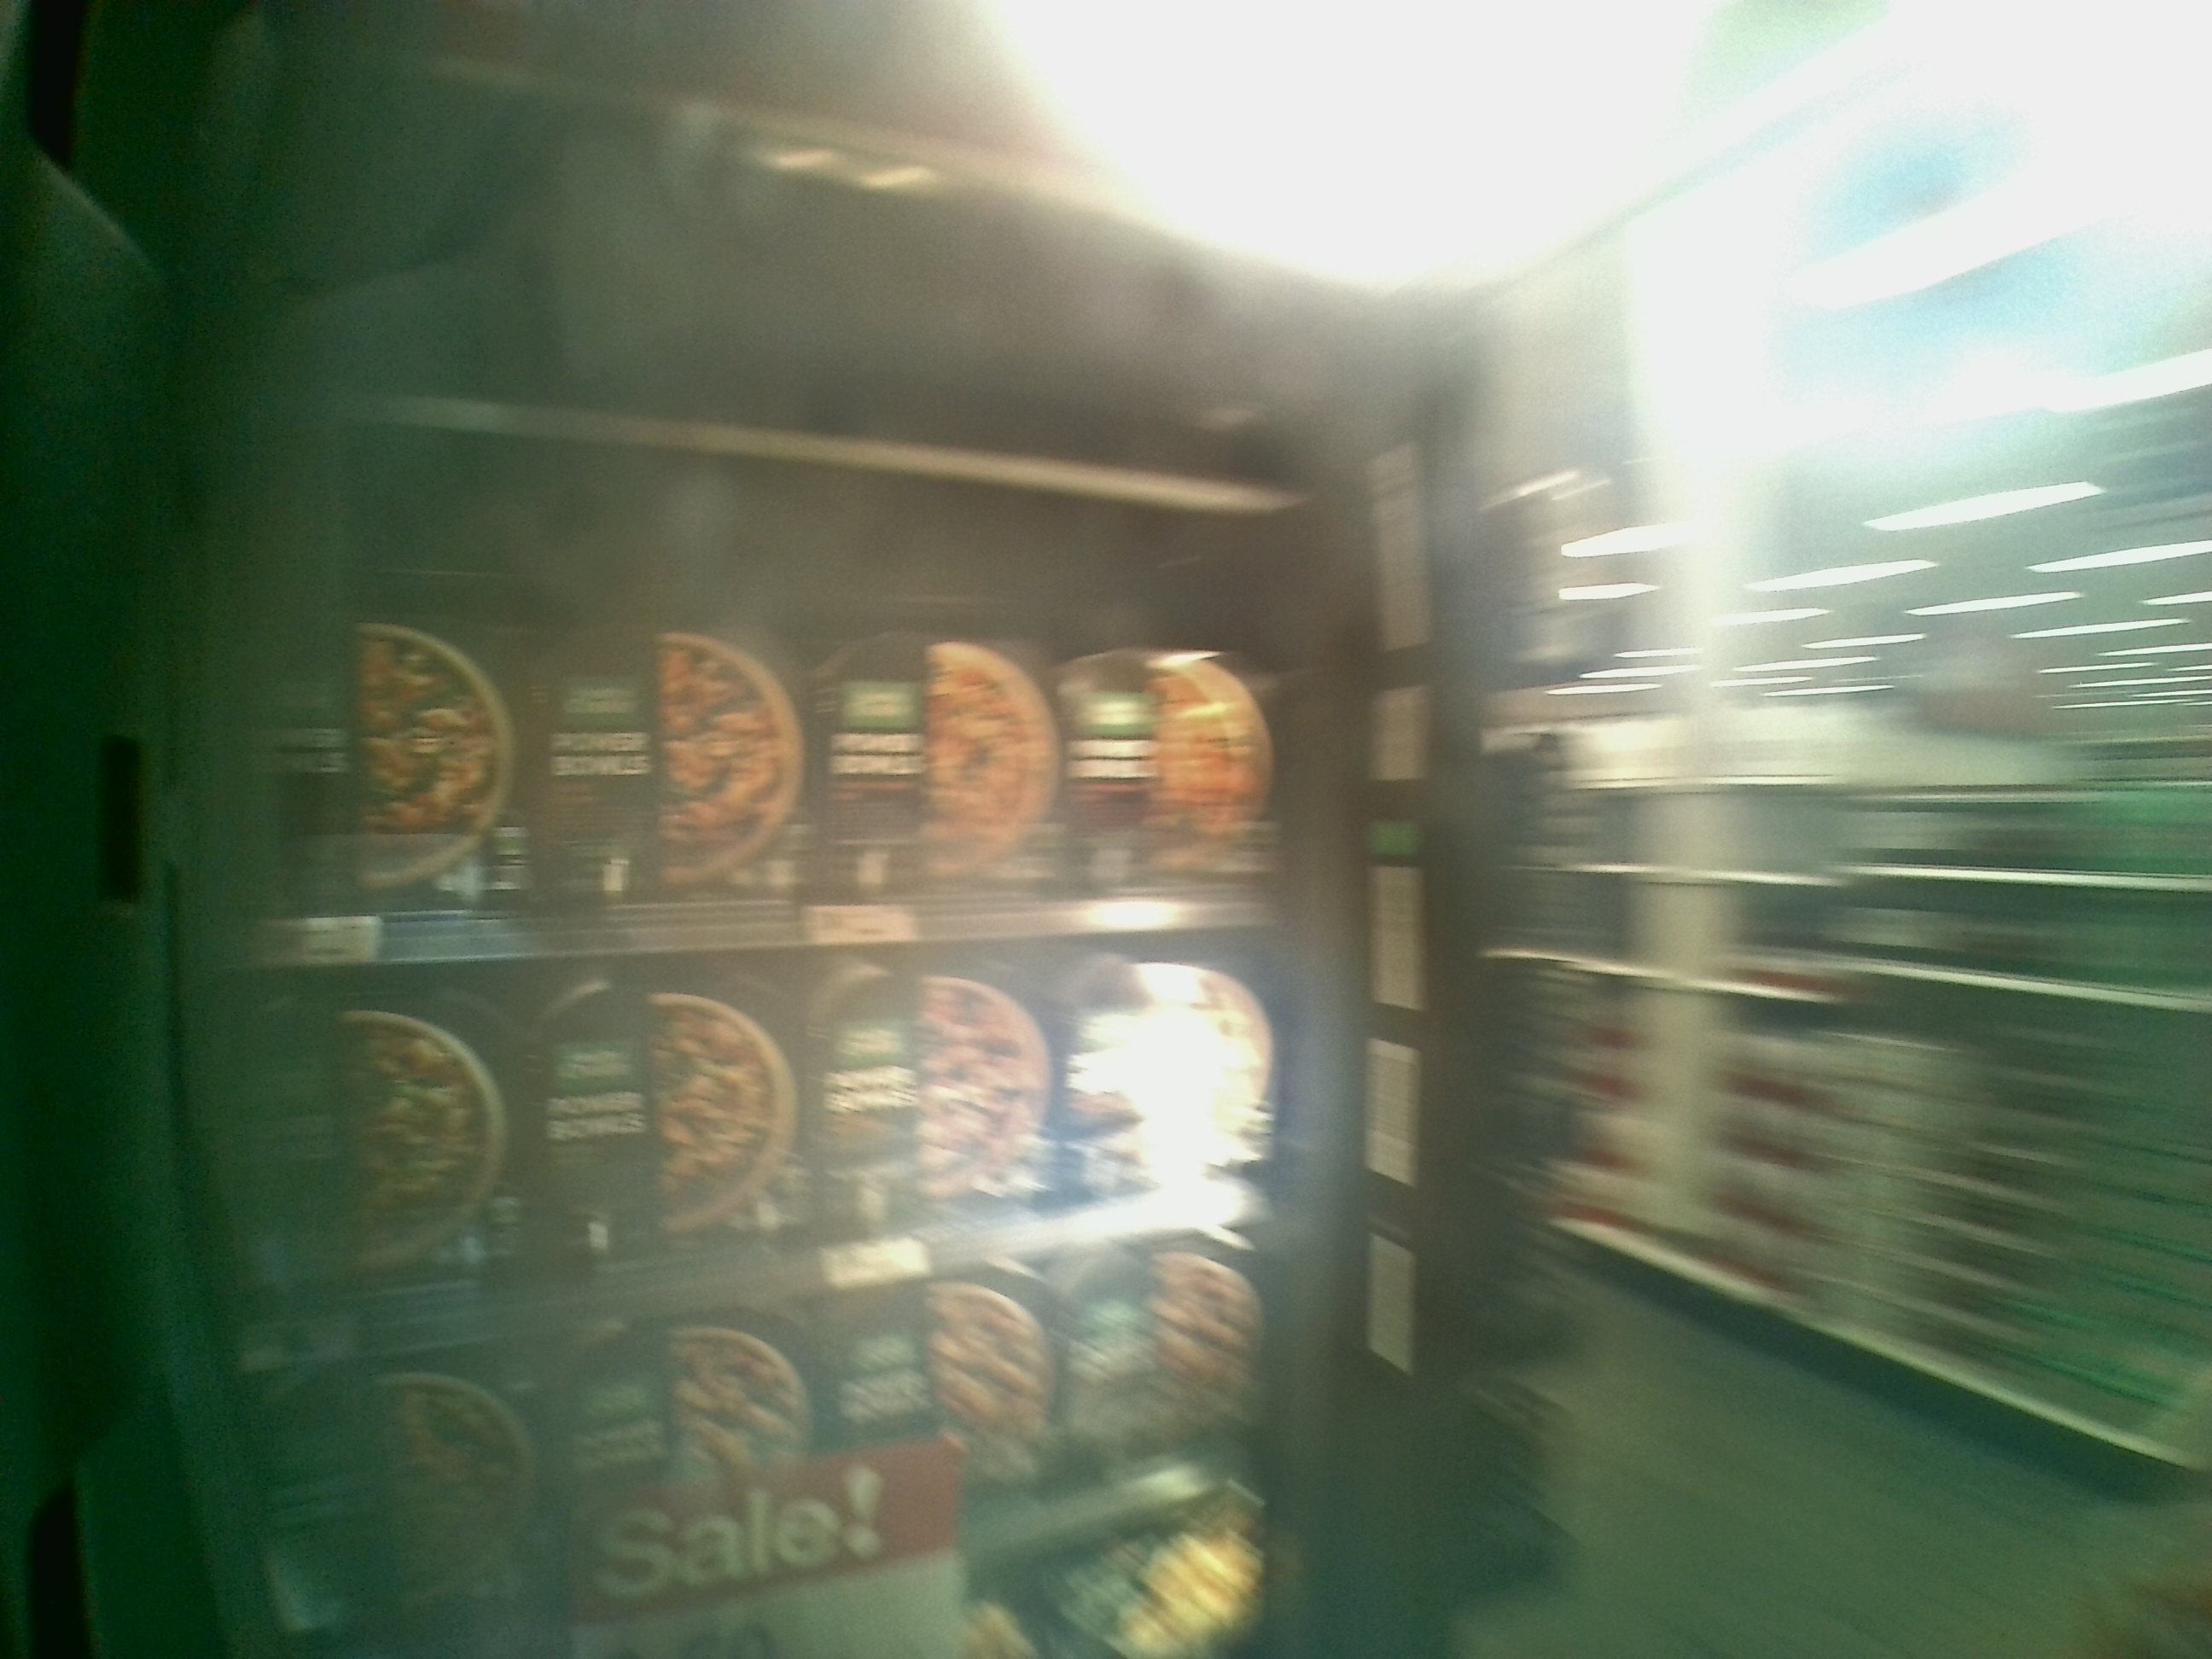shelf: (211, 387, 1299, 972)
